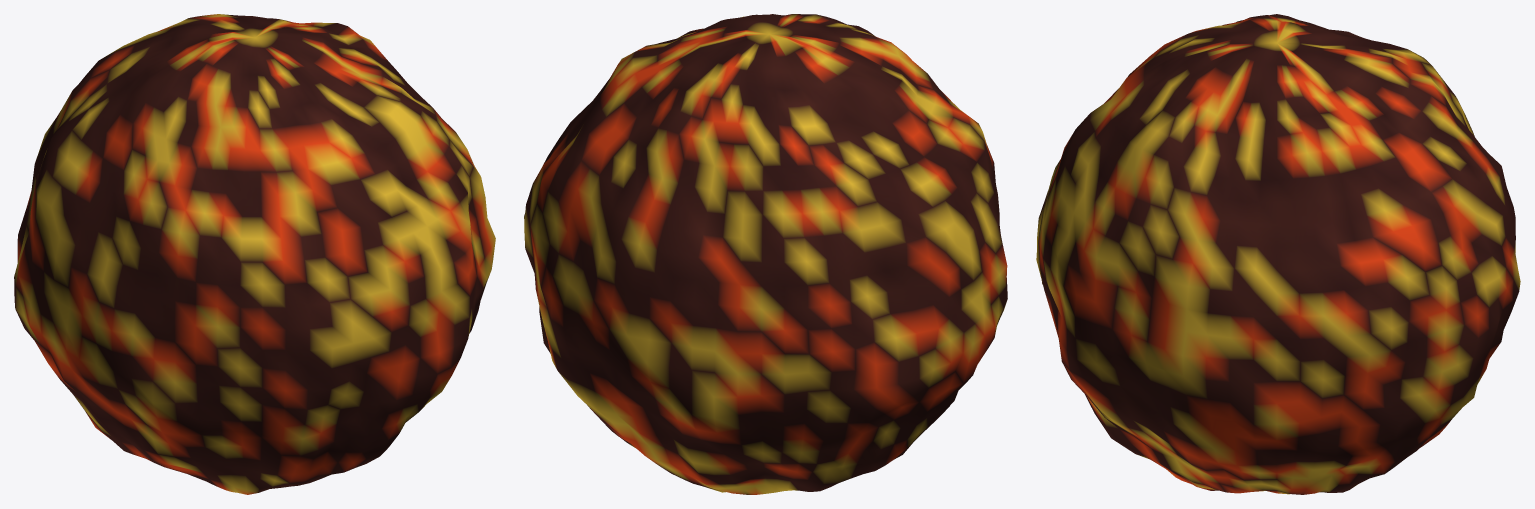
Rendered from planet_negatives.glb.
3 renders of one model, left to right at view 1: azimuth 30°, elevation 25°; view 2: azimuth 150°, elevation 25°; view 3: azimuth 270°, elevation 25°, orthographic.
Parts seen in each view (by area): view 1: Surface; view 2: Surface; view 3: Surface.
Part boxes in pixels (x1=…): Surface: x1=14, y1=14, x2=495, y2=494; Surface: x1=524, y1=14, x2=1007, y2=494; Surface: x1=1036, y1=14, x2=1520, y2=494.
Bounding box in the file's own units: 2.01 × 2.03 × 2.04.
